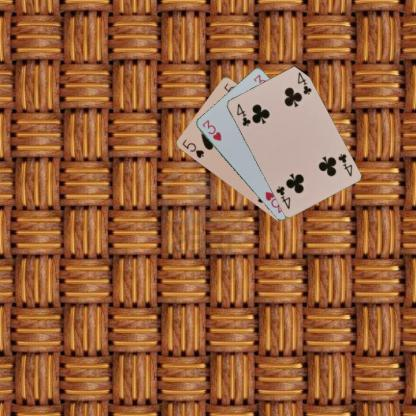3h: (199, 117, 222, 142)
4c: (335, 151, 354, 177), (234, 101, 252, 128)
5s: (179, 137, 205, 159)
